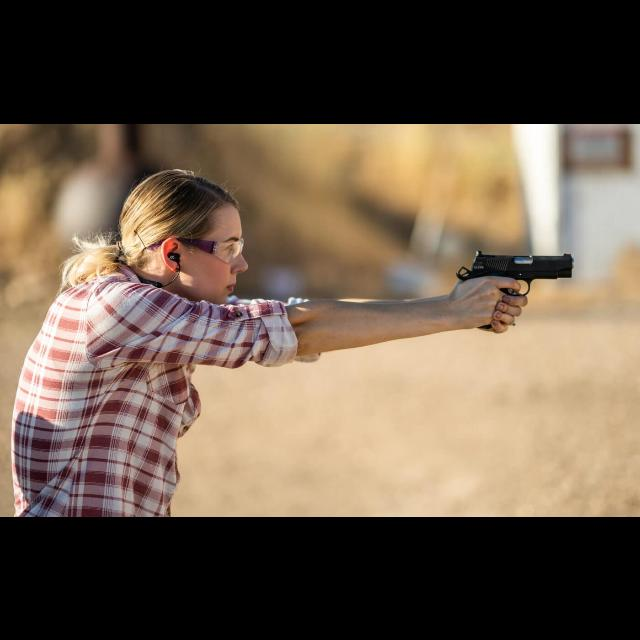handgun: (454, 247, 578, 331)
